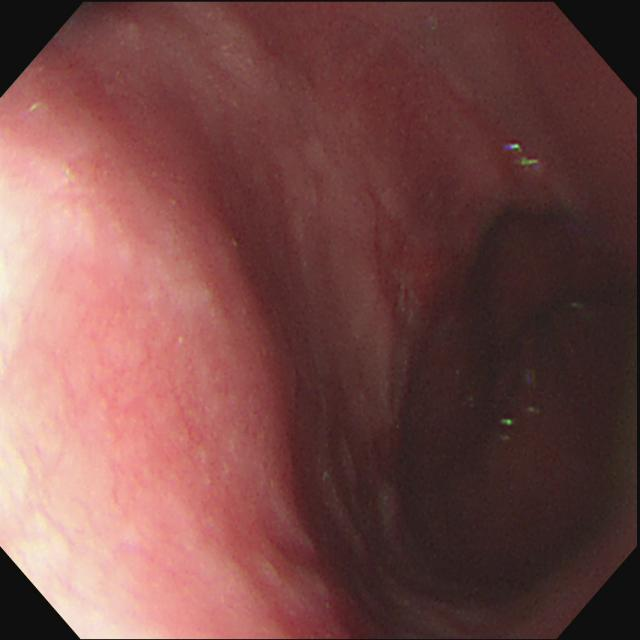U: (507, 140, 546, 173)
